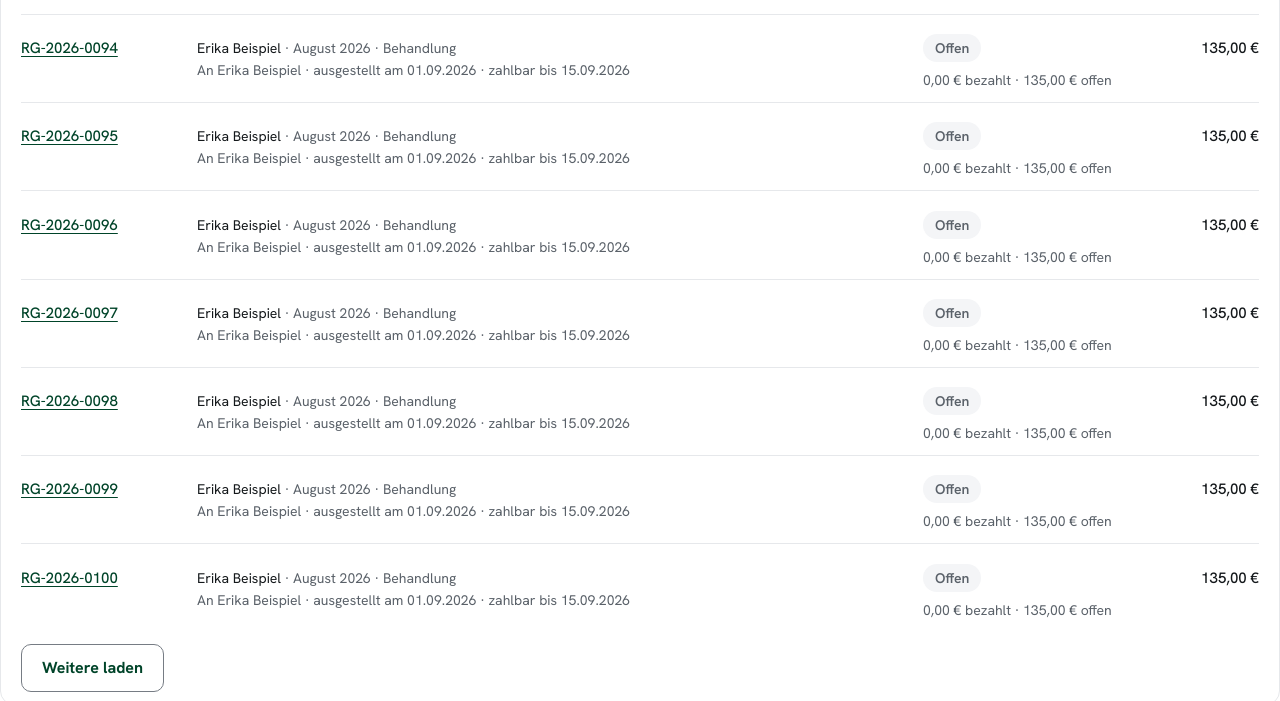
Test case: Rechnungsliste mit Suche, Filter und Weitere laden (ABR-034, BEF-061) › sagt, wie viele es sind, und lädt weitere nach
(page scrolled)
Step 1. Click the button "Weitere laden" → (92, 668), box x1=21 y1=644 x2=164 y2=692
(page scrolled)
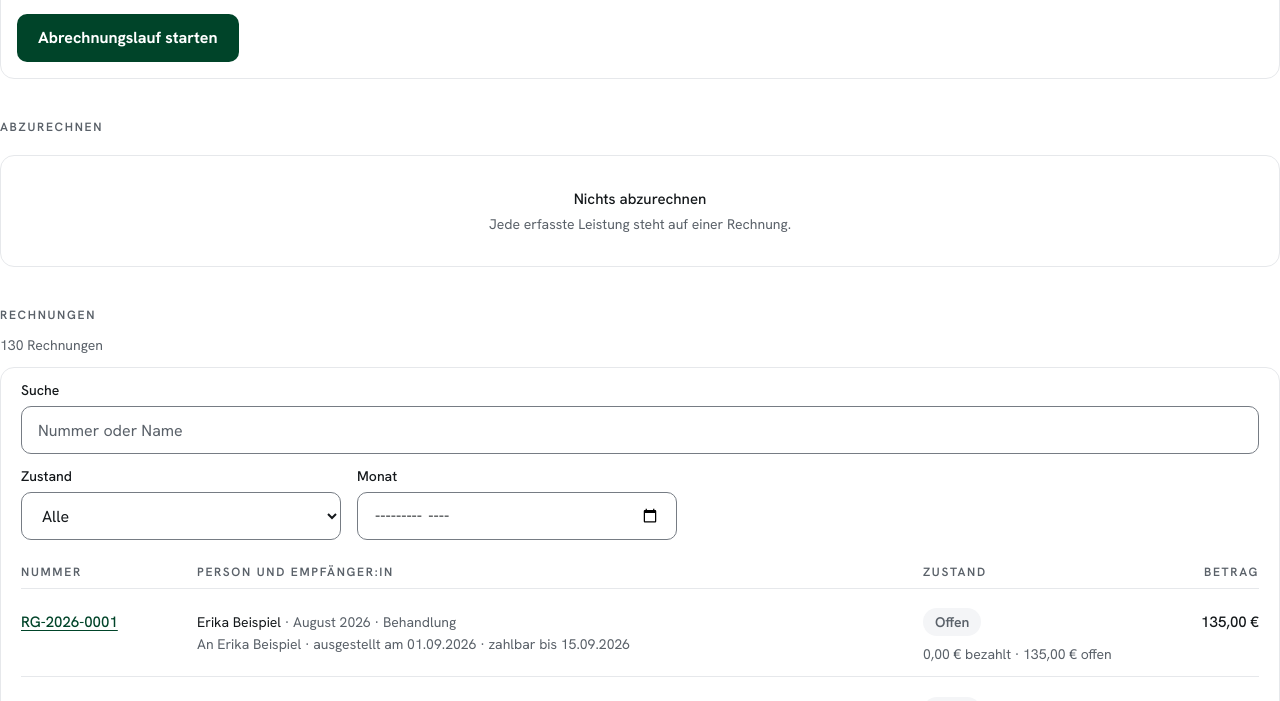
expect the text "130 Rechnungen" is shown: met, box x1=0 y1=336 x2=103 y2=354
expect the button "Weitere laden" is gone: met
